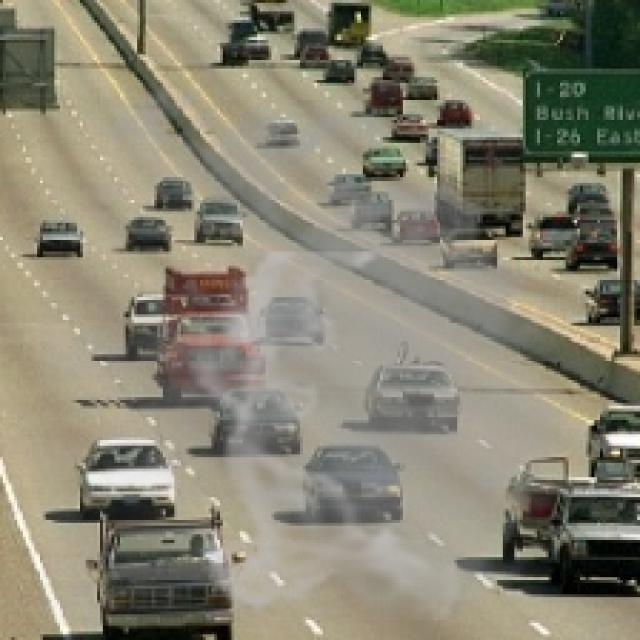smoke: (40, 69, 609, 626)
